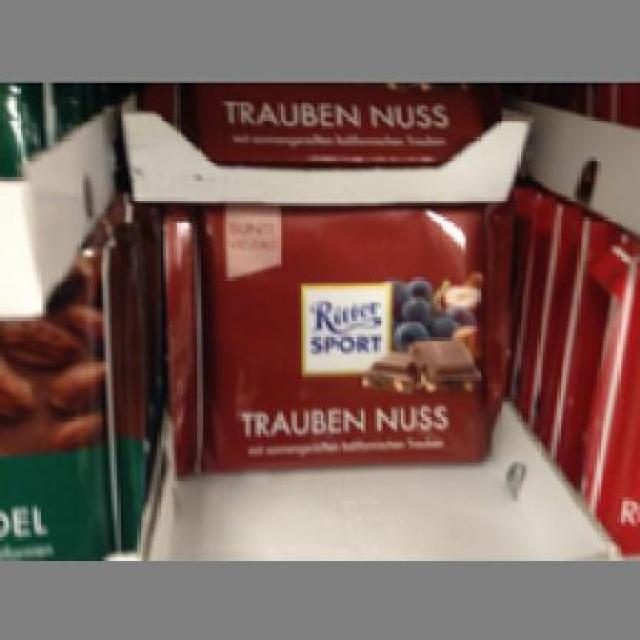Chocolate: (163, 202, 512, 475)
